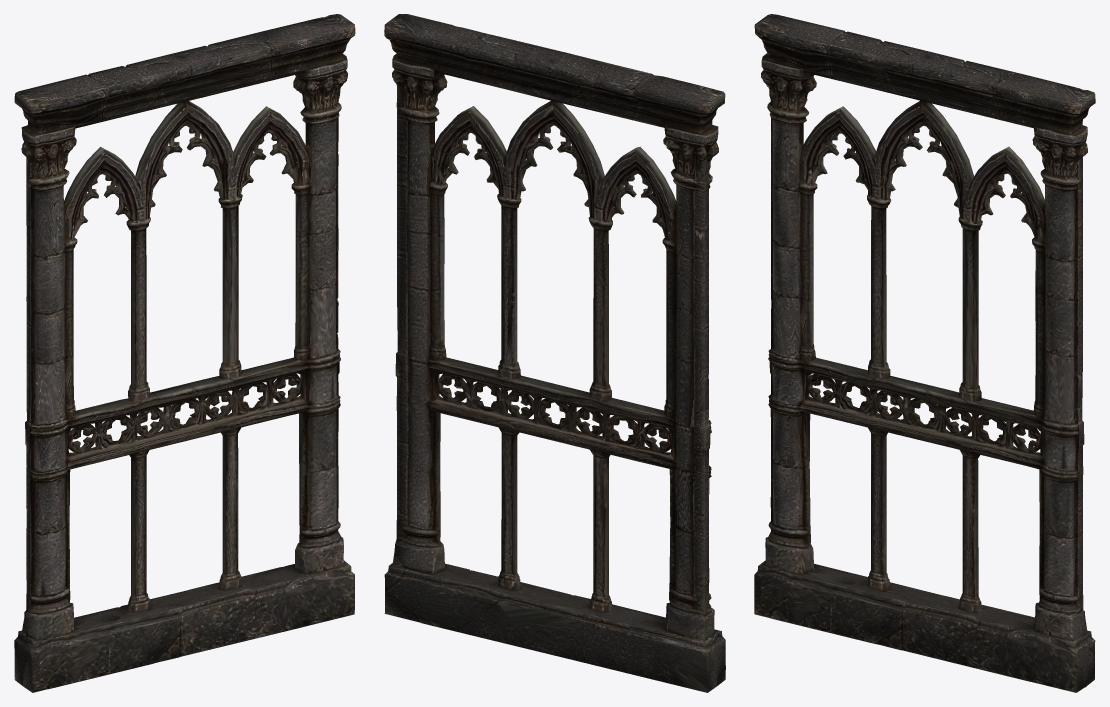
Rendered from wallframe.glb.
3 renders of one model, left to right at view 1: azimuth 30°, elevation 25°; view 2: azimuth 150°, elevation 25°; view 3: azimuth 330°, elevation 25°, orthographic.
Visible parts, largest first — view 1: wallframe; view 2: wallframe; view 3: wallframe.
Part boxes in pixels (bbox=[...]): wallframe: bbox=[14, 14, 355, 692]; wallframe: bbox=[384, 14, 725, 692]; wallframe: bbox=[754, 14, 1095, 692].
Size of the model in its own units: 5 by 8.6 by 0.5.
1 material, 1 textured.
